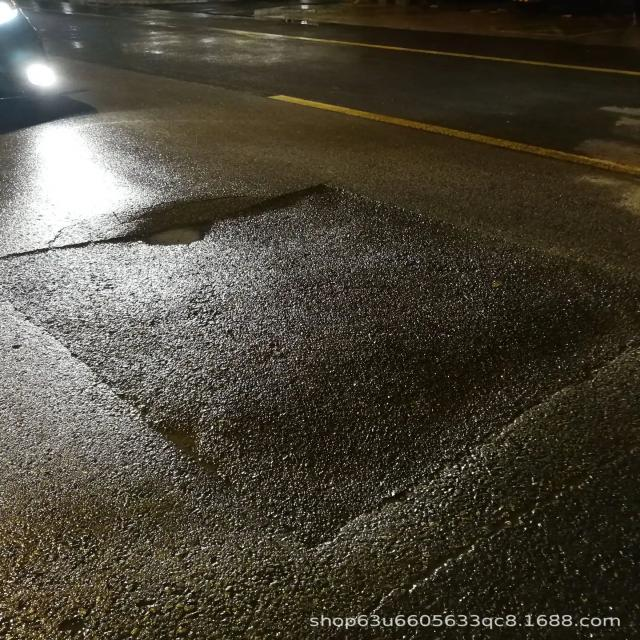Pothole: (126, 221, 224, 250), (150, 420, 210, 462)
